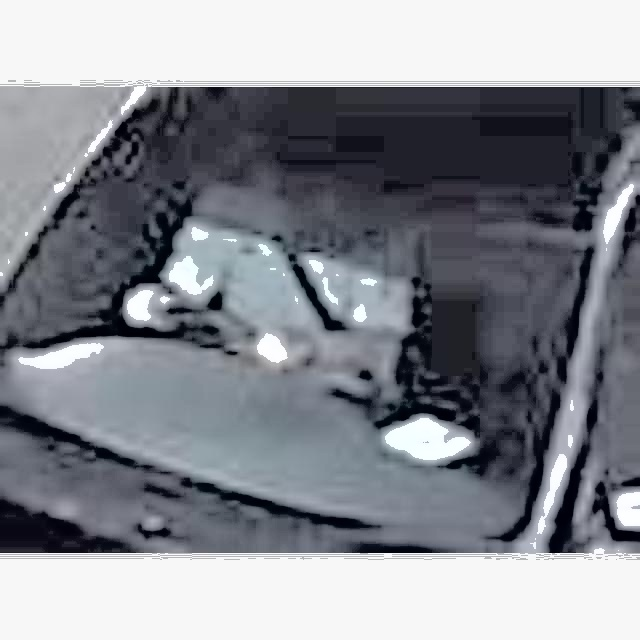pakai: (161, 165, 431, 440)
